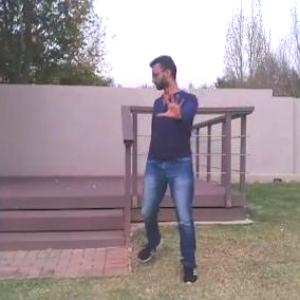follow_hand: (155, 88, 187, 124)
